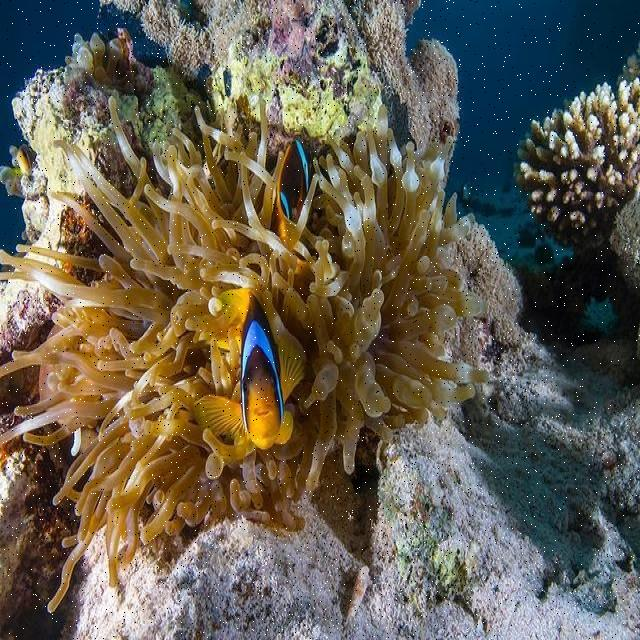fish: (193, 288, 307, 449), (276, 139, 312, 252)
reefs: (0, 95, 489, 612), (514, 76, 639, 249)
